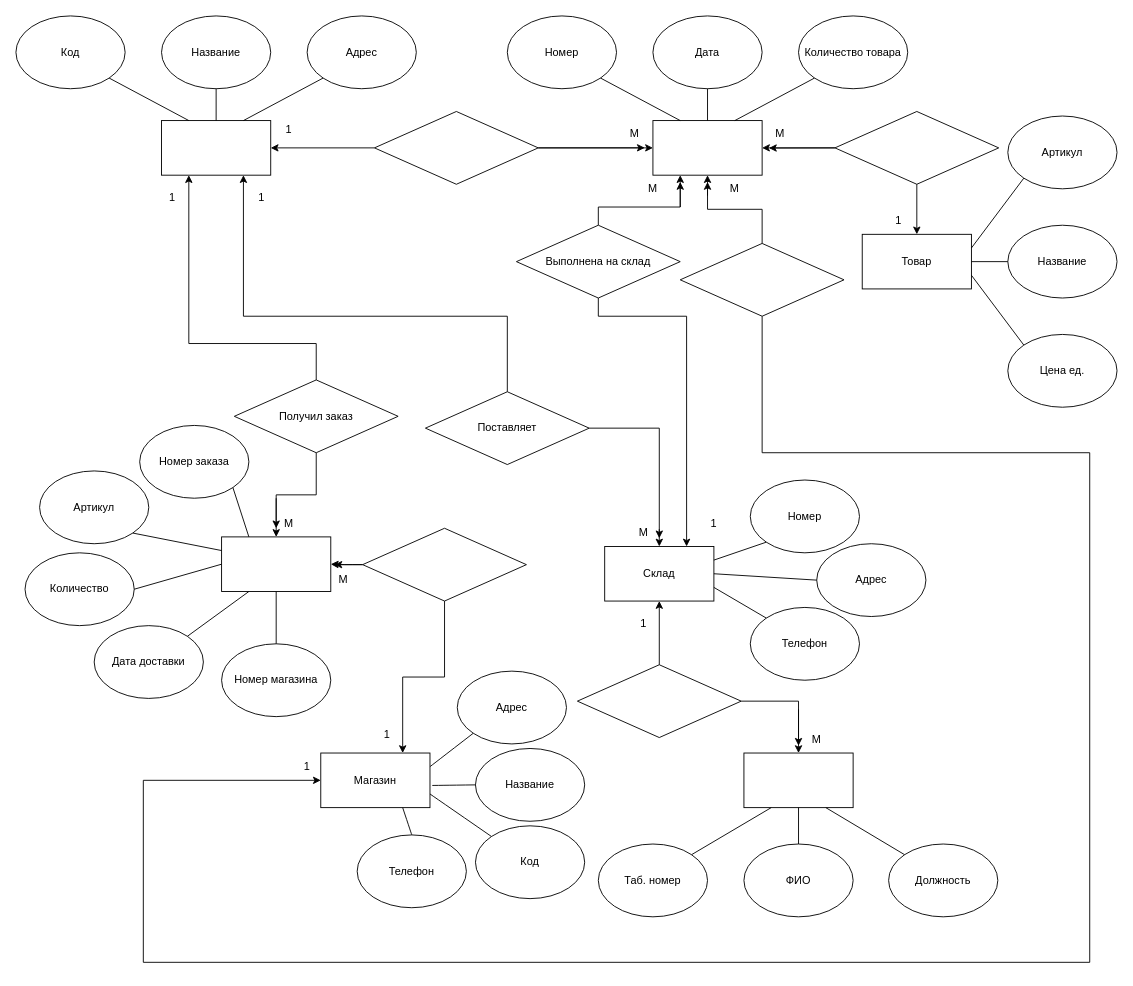
Image size: 1133x986. Some labels were removed from this diagram. Each missing label, with the centre of its shape:
Выполнил поставку: point 456,147
Заказ: point 276,564
Оформил заказ: point 444,564
Получил поставку: point 761,279
Поставка: point 707,147
Поставщик: point 216,147
Работает на складе: point 658,701
Содержится: point 916,147
Сотрудник: point 798,780
